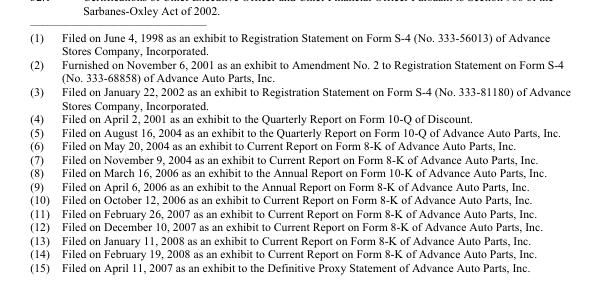table: (29, 29, 570, 274)
table column: (54, 29, 570, 274), (29, 29, 54, 274)
table row: (29, 29, 570, 57), (29, 57, 570, 84), (29, 84, 570, 111), (29, 259, 570, 274), (29, 124, 570, 138), (29, 151, 570, 165), (29, 178, 570, 192), (29, 205, 570, 219), (29, 232, 570, 246), (29, 111, 570, 124), (29, 138, 570, 151), (29, 165, 570, 178), (29, 192, 570, 205), (29, 219, 570, 232), (29, 246, 570, 259)
